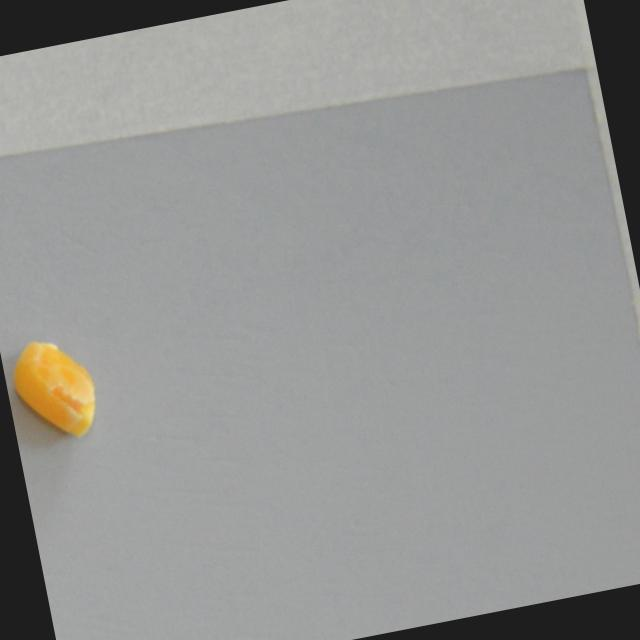pelicula: (6, 329, 108, 452)
